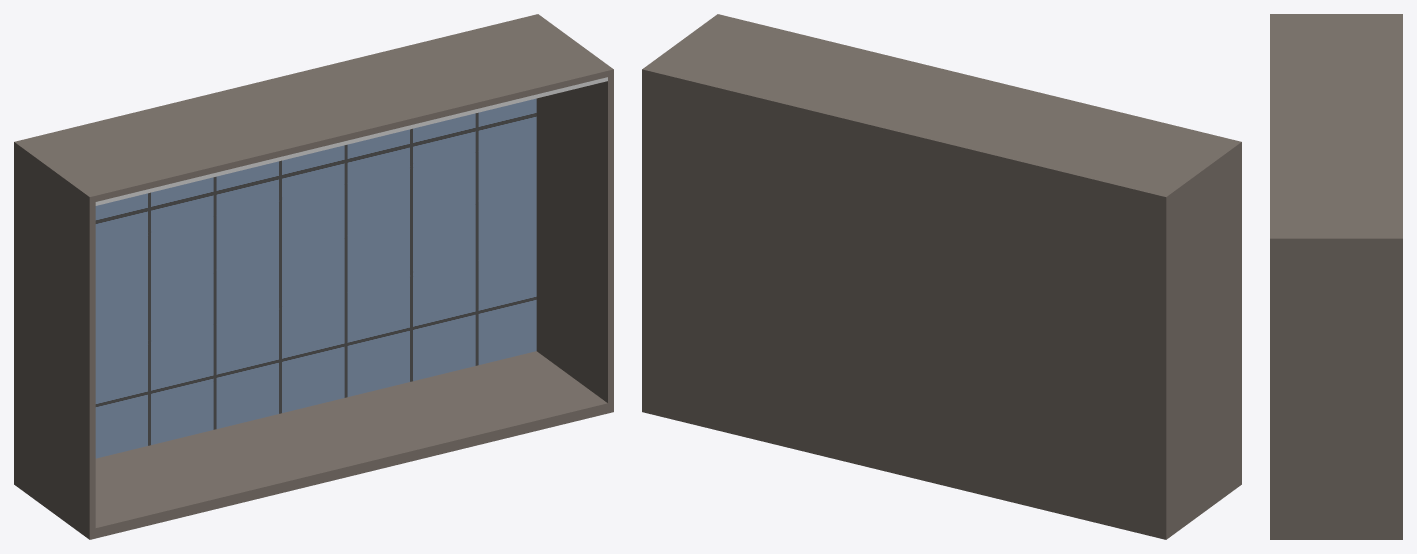
Rendered from Wall_8x5x2_010_L0.fbx.
3 views of the same model, side by side, from view 1: azimuth 30°, elevation 25°; view 2: azimuth 150°, elevation 25°; view 3: azimuth 270°, elevation 25° (orthographic). The views are drawn at different scales.
Visible parts, largest first — view 1: Wall_8x5x2_010_L0; view 2: Wall_8x5x2_010_L0; view 3: Wall_8x5x2_010_L0.
Part boxes in pixels (x1=…): Wall_8x5x2_010_L0: x1=14, y1=14, x2=613, y2=539; Wall_8x5x2_010_L0: x1=642, y1=14, x2=1241, y2=539; Wall_8x5x2_010_L0: x1=1270, y1=14, x2=1402, y2=539.
Size of the model in its own units: 8 by 2 by 5.
